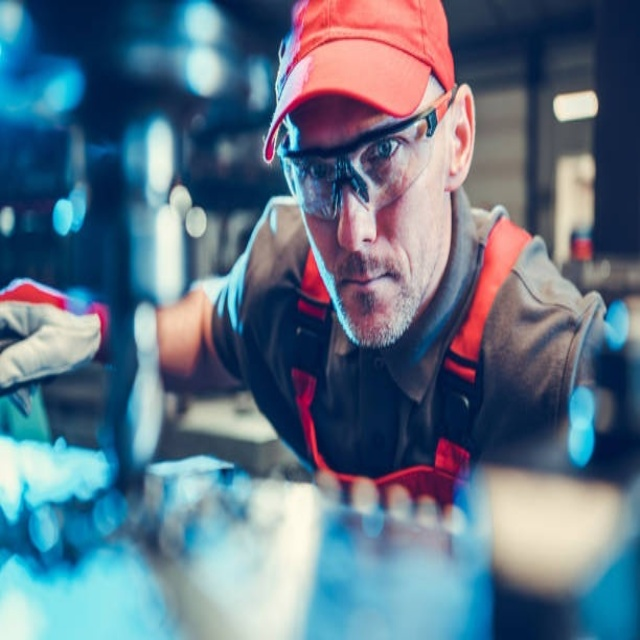Gafas: (277, 85, 454, 223)
Guantes: (0, 281, 105, 414)
Sin_mascara: (328, 254, 405, 325)
